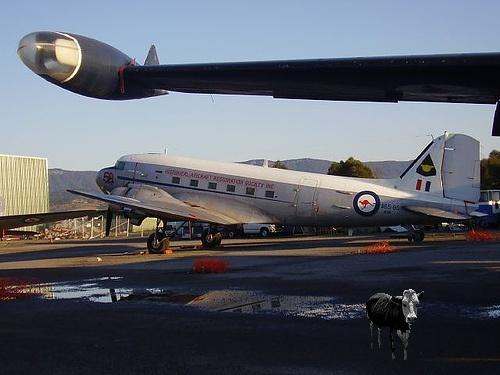tampered: (367, 290, 424, 360)
